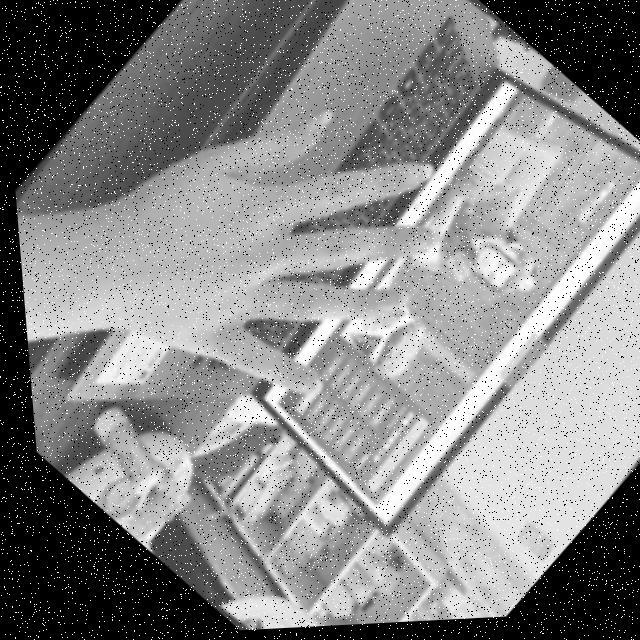no-gloves: (46, 24, 496, 464)
